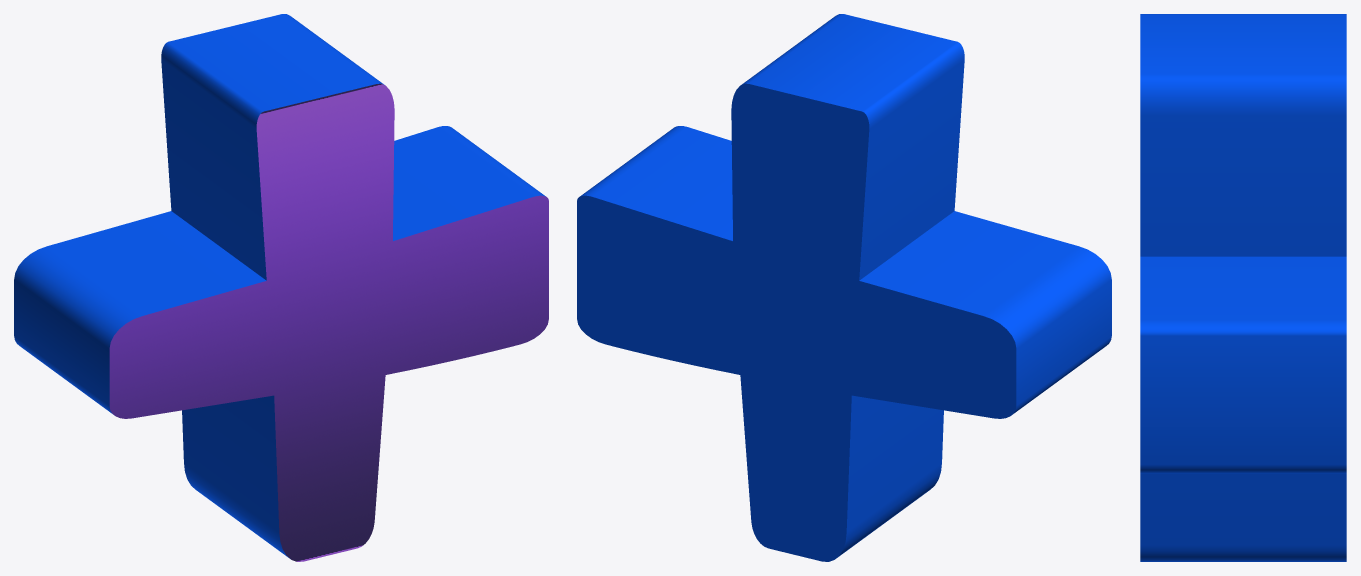
Rendered from Plus.FBX.
The picture shows the model from 3 angles, left to right: view 1: azimuth 30°, elevation 25°; view 2: azimuth 150°, elevation 25°; view 3: azimuth 270°, elevation 25°; orthographic projection. The views are drawn at different scales.
Visible parts, largest first — view 1: Plus; view 2: Plus; view 3: Plus.
Part boxes in pixels (bbox=[...]): Plus: bbox=[14, 14, 548, 561]; Plus: bbox=[577, 14, 1111, 561]; Plus: bbox=[1140, 14, 1346, 561].
Bounding box in the file's own units: 52.88 × 52.88 × 19.88.
Materials: 2 (1 with a texture image).
